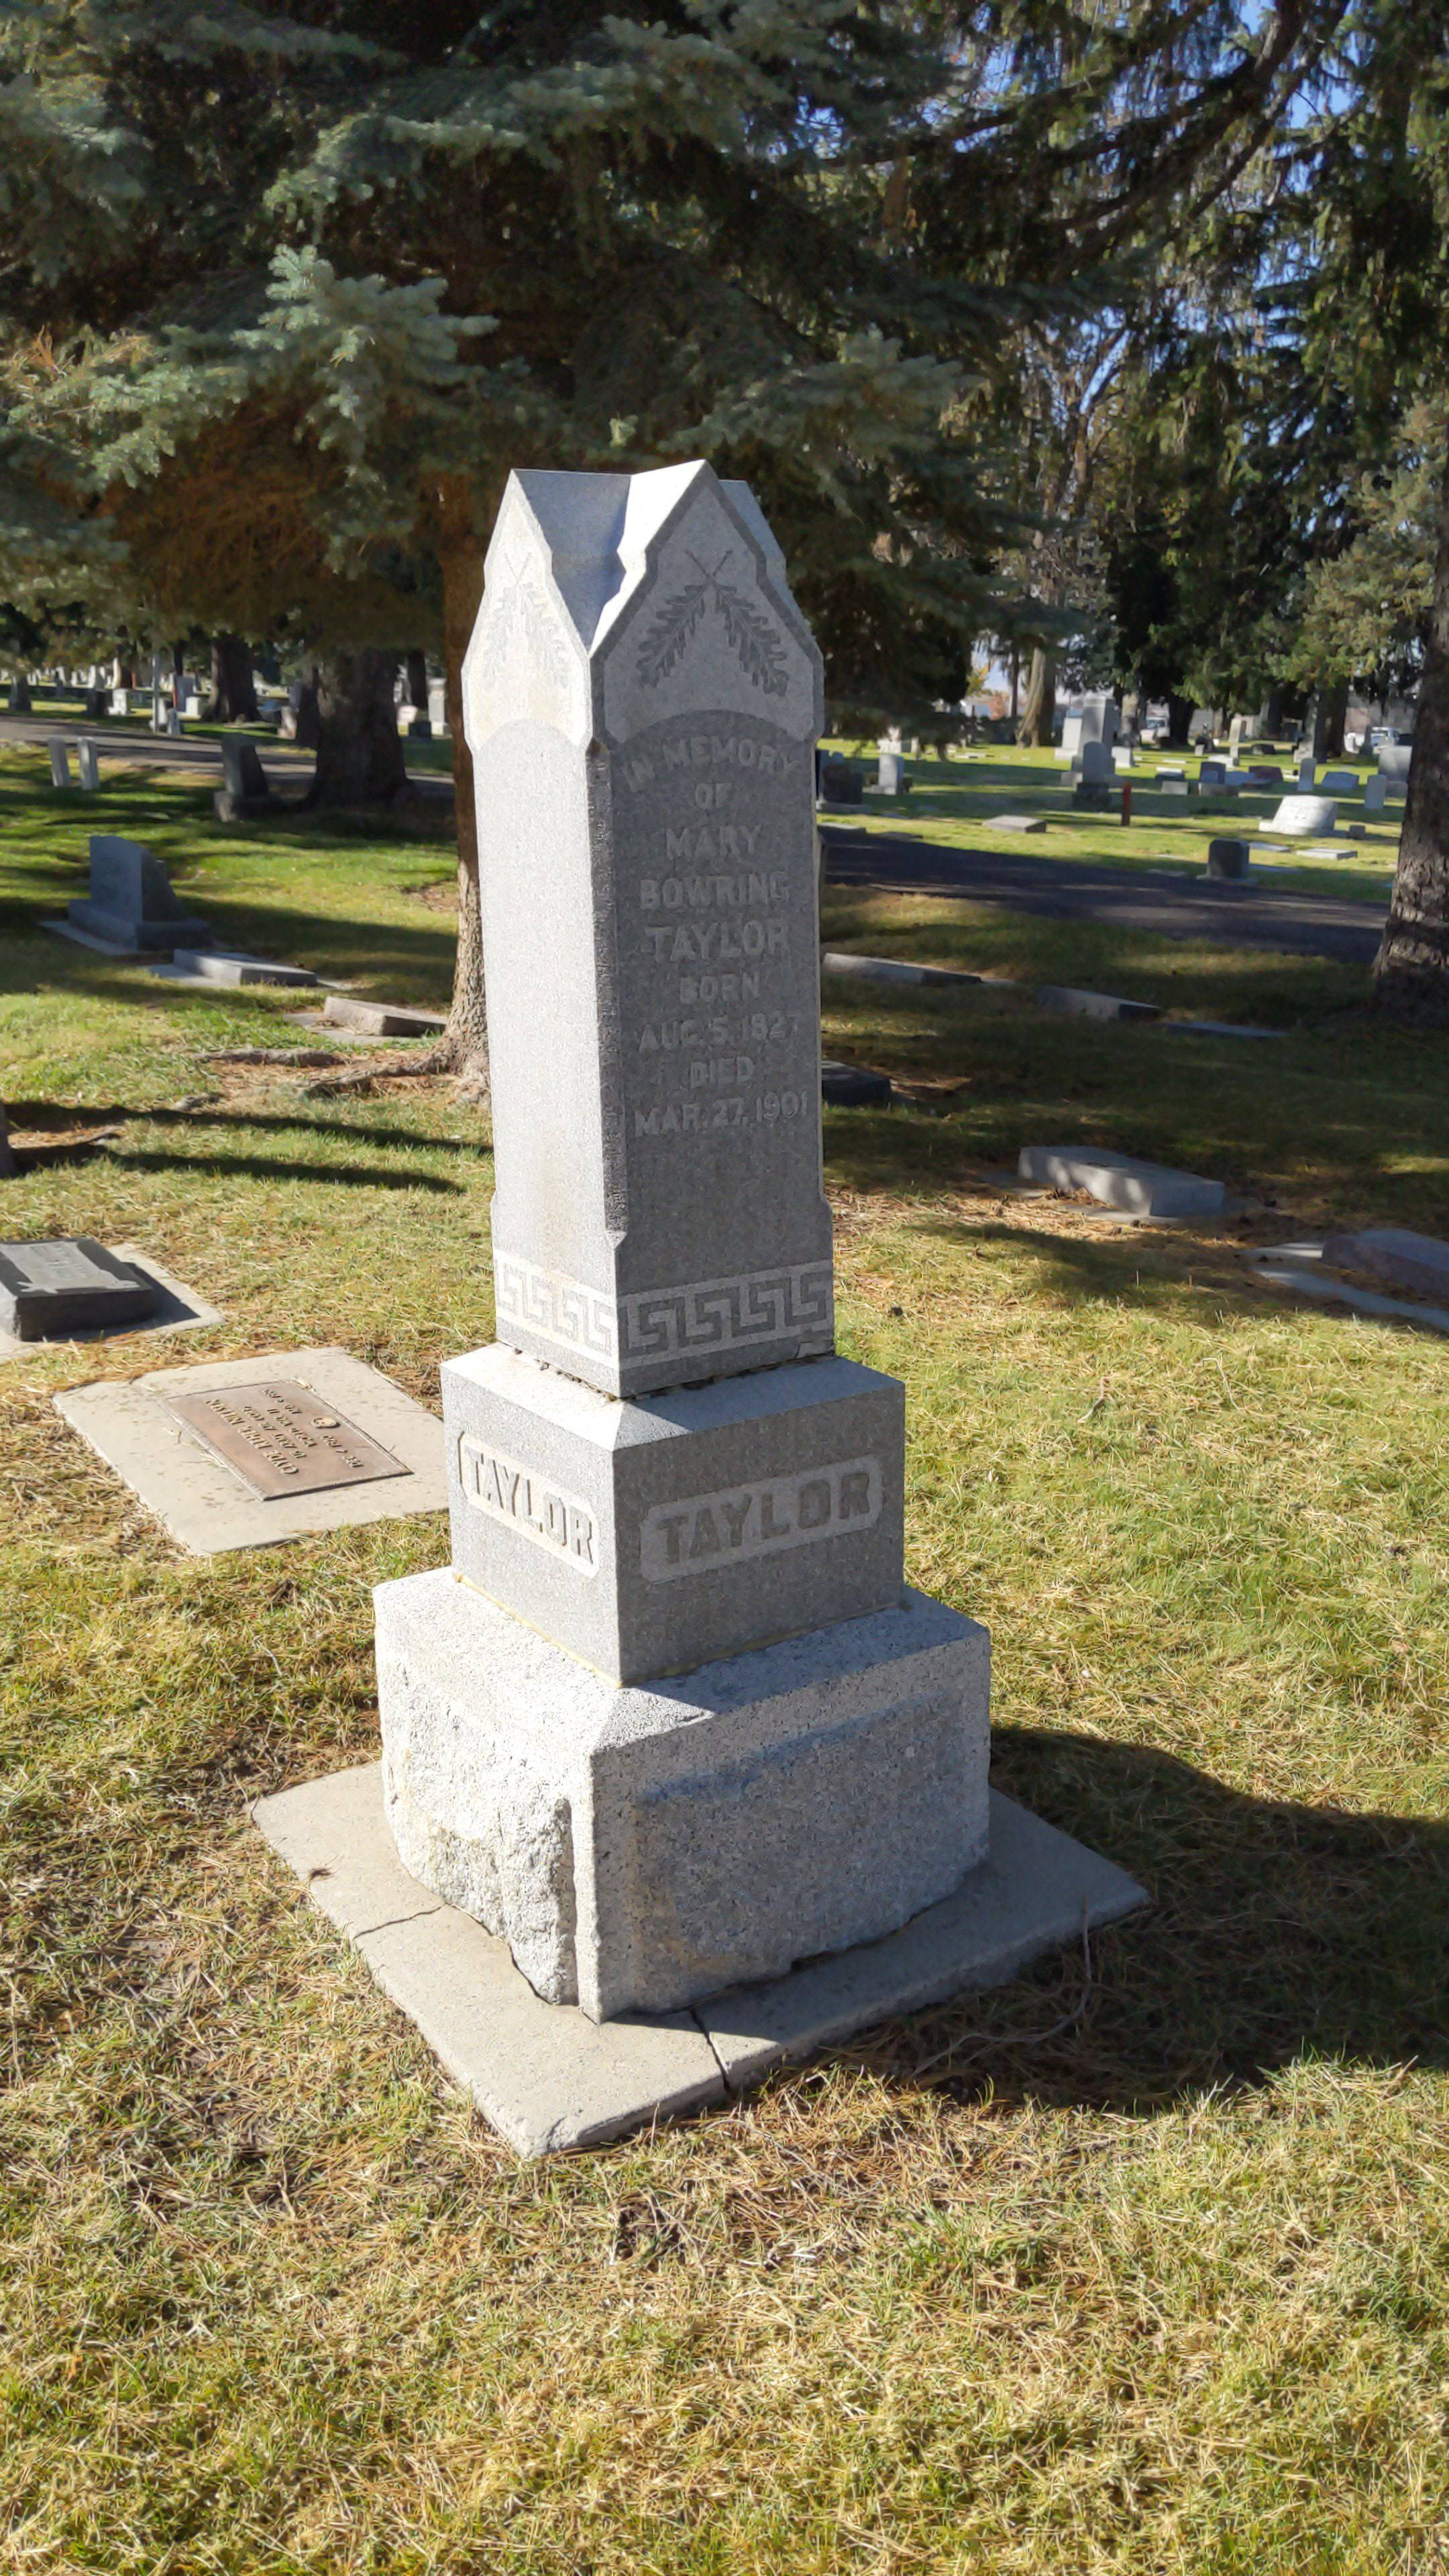obelisk: (441, 465, 897, 1672)
